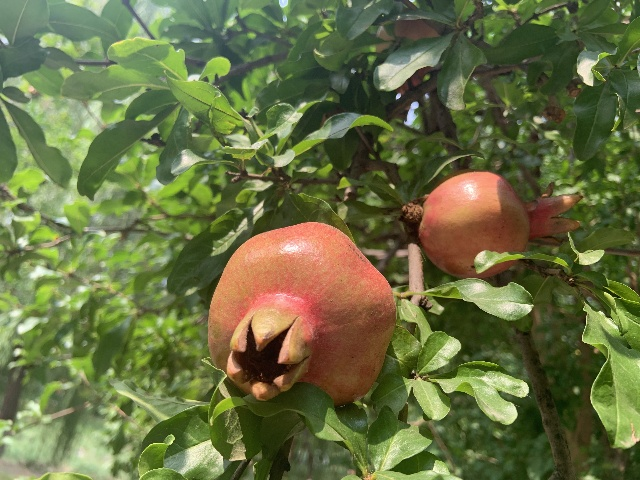ripe: (207, 222, 396, 406), (417, 171, 582, 279)
